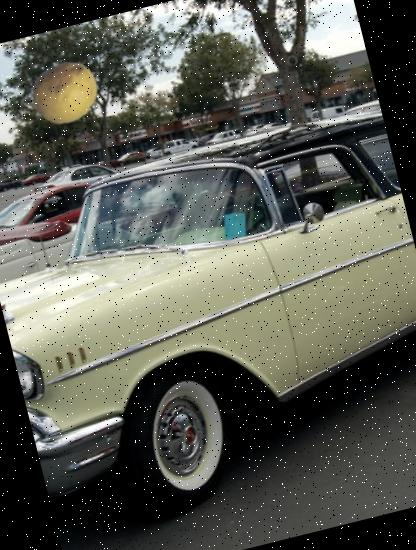Lemon: (24, 52, 106, 133)
